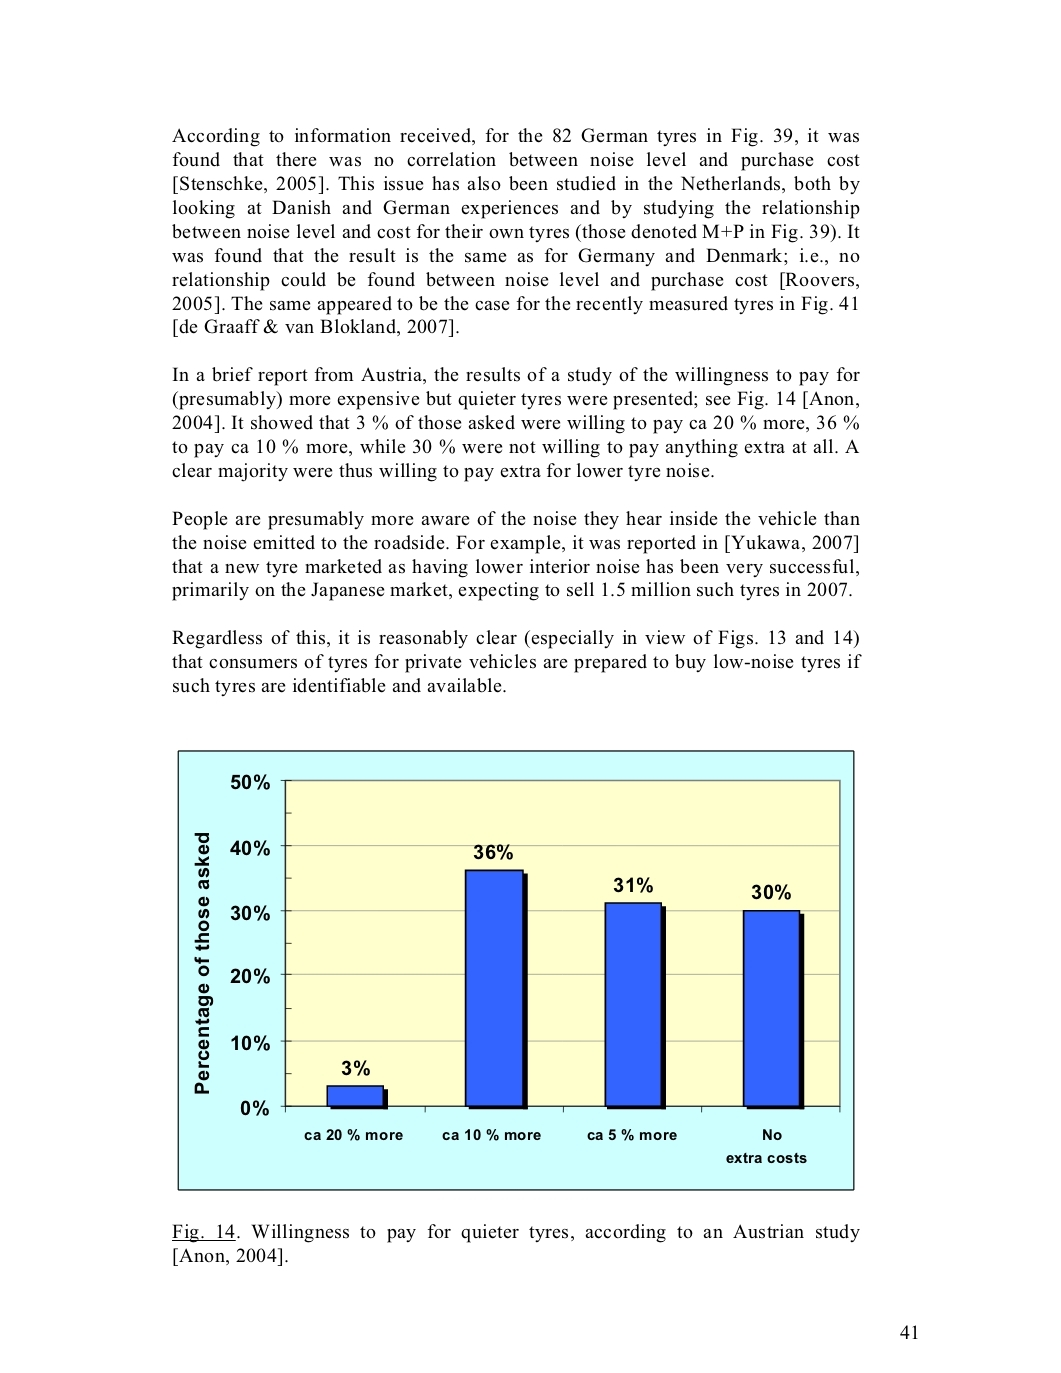figure: (177, 749, 854, 1191)
